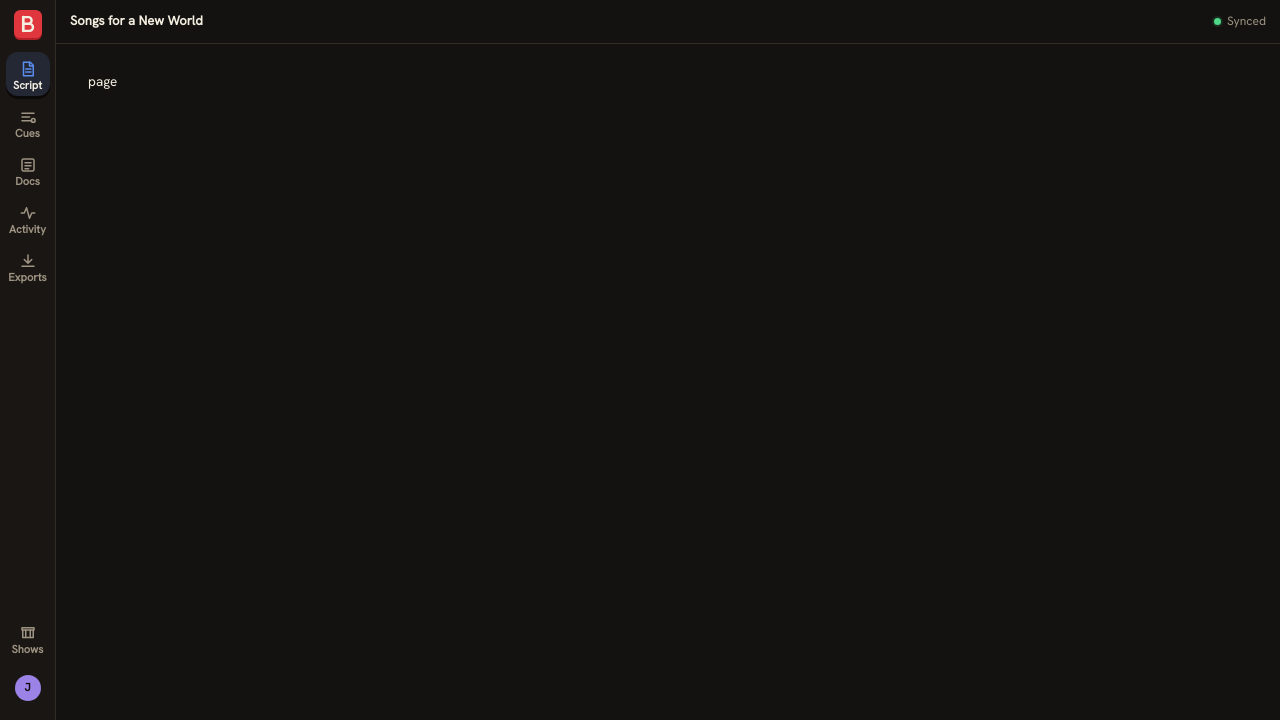
it: AccountMenu › shows the email, the tokens page and Sign out
Expected: the element showing "page" is shown, [88,72,117,90]
Press the mouse on the button named "Account menu" at (28, 688), box [6,666,50,710]
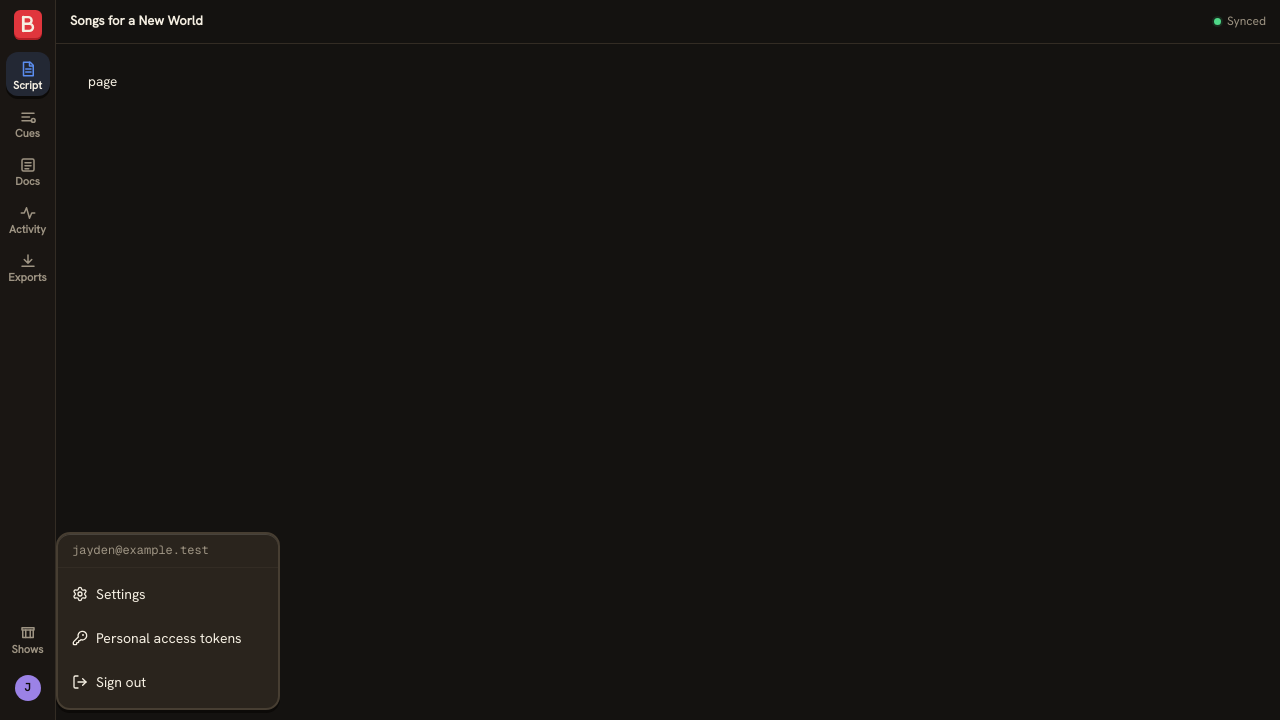
Result: the text "jayden@example.test" is shown at [72,542,209,558]
Result: the menu item "Personal access tokens" is shown at [72,629,242,647]
Result: the menu item "Settings" is shown at [72,585,146,603]
